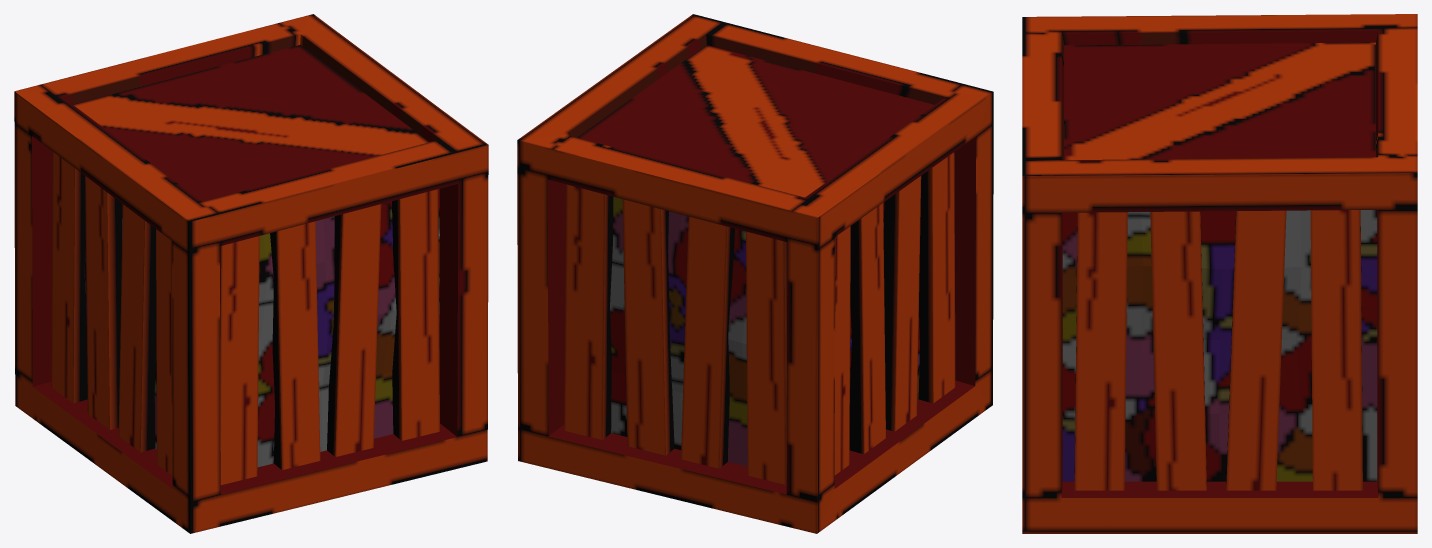
The model's file is CrateBOUNCE.obj.
3 views of the same model, side by side, from view 1: azimuth 30°, elevation 25°; view 2: azimuth 150°, elevation 25°; view 3: azimuth 270°, elevation 25° (orthographic). The views are drawn at different scales.
Visible parts, largest first — view 1: Cube; view 2: Cube; view 3: Cube.
Part boxes in pixels (x1,y1,x2,y2): Cube: (14,14,488,533); Cube: (517,14,993,533); Cube: (1022,14,1417,533).
Bounding box in the file's own units: 1.97 × 2.01 × 2.
Materials: 2 (2 with a texture image).
